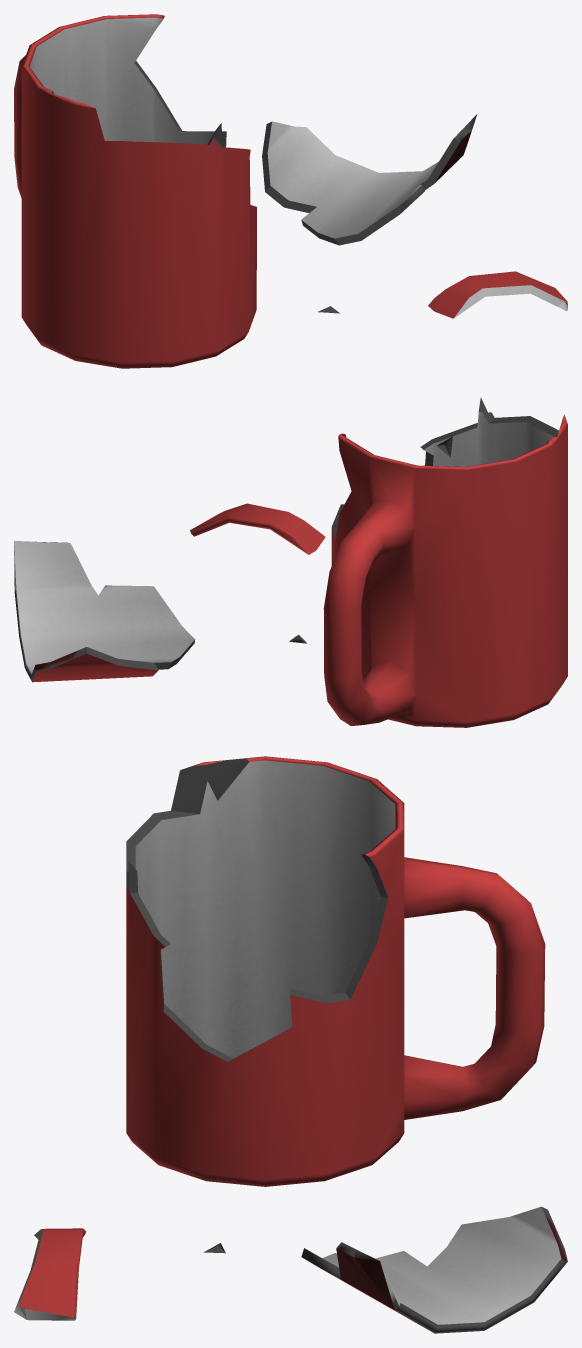
File: mok_broken.fbx
3 renders of one model, top to bottom at view 1: azimuth 30°, elevation 25°; view 2: azimuth 150°, elevation 25°; view 3: azimuth 270°, elevation 25°, orthographic. The views are drawn at different scales.
Visible parts, largest first — view 1: mok_broken; view 2: mok_broken; view 3: mok_broken.
Boxes of the visible parts, x1,y1,x2,y2 form: mok_broken: (14, 14, 567, 368); mok_broken: (14, 397, 567, 727); mok_broken: (14, 756, 567, 1333).
Size of the model in its own units: 0.2992 by 0.1617 by 0.2431.
